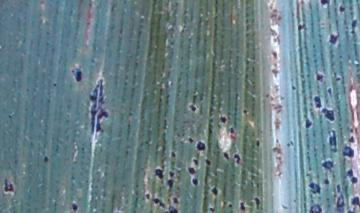tarspot: (87, 77, 110, 139), (265, 83, 285, 115), (272, 138, 285, 179), (327, 127, 339, 154), (268, 1, 282, 24), (1, 174, 15, 195), (320, 106, 336, 124), (346, 194, 360, 213), (320, 158, 337, 173), (71, 65, 83, 85), (328, 30, 341, 48), (164, 197, 178, 213), (341, 144, 354, 161), (269, 60, 280, 80), (308, 181, 321, 196), (152, 197, 166, 210), (227, 126, 238, 142), (186, 102, 199, 115), (69, 199, 81, 213), (153, 166, 164, 181), (209, 184, 220, 199), (308, 202, 323, 213), (271, 115, 282, 130), (349, 19, 359, 35), (302, 116, 313, 130), (312, 95, 322, 109), (314, 70, 324, 84), (336, 193, 345, 208), (295, 24, 309, 33), (253, 194, 260, 210), (233, 153, 241, 167), (203, 157, 213, 168), (166, 179, 176, 190), (196, 140, 205, 152), (190, 176, 199, 188), (269, 47, 278, 59), (220, 113, 228, 126), (142, 190, 152, 200), (322, 176, 332, 186), (191, 156, 200, 167), (222, 150, 231, 161), (325, 85, 333, 97), (342, 182, 350, 194), (273, 34, 280, 47), (337, 4, 346, 14), (167, 169, 176, 179), (334, 182, 341, 194), (187, 166, 196, 175), (345, 168, 354, 177), (279, 201, 288, 210), (319, 1, 332, 7), (290, 82, 297, 93), (306, 1, 313, 12), (170, 149, 177, 160), (347, 135, 356, 143), (238, 201, 245, 211), (335, 74, 342, 84), (269, 26, 276, 36), (51, 81, 59, 89), (42, 154, 49, 163), (255, 139, 261, 149), (187, 136, 194, 144), (226, 202, 234, 209), (208, 206, 216, 213), (349, 176, 356, 184), (242, 108, 248, 116), (298, 1, 306, 5)
